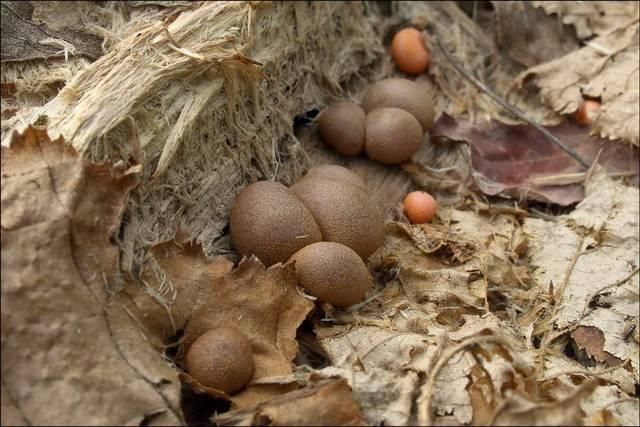poisonous_mushroom: (227, 73, 439, 309), (228, 162, 387, 307), (288, 163, 385, 260), (228, 179, 322, 266), (283, 240, 369, 308), (184, 325, 254, 394), (361, 76, 435, 132), (364, 106, 423, 163), (314, 100, 365, 155), (390, 26, 429, 74), (402, 189, 437, 223)
